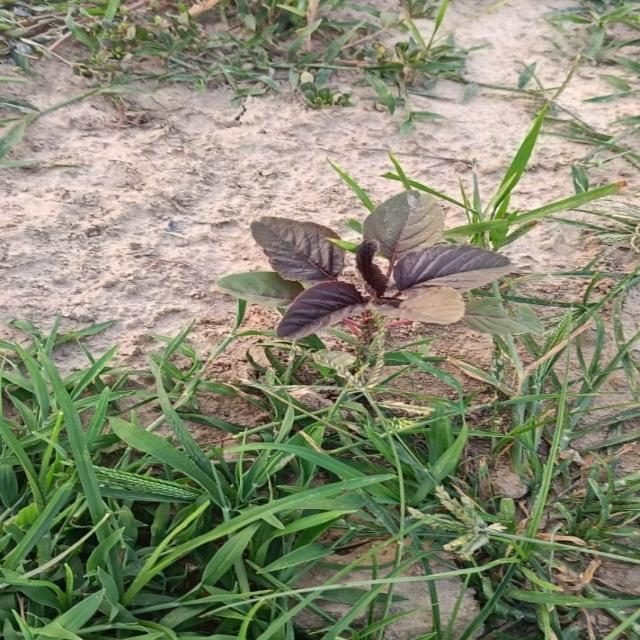plant: (218, 190, 536, 339)
weed: (0, 330, 640, 640)
